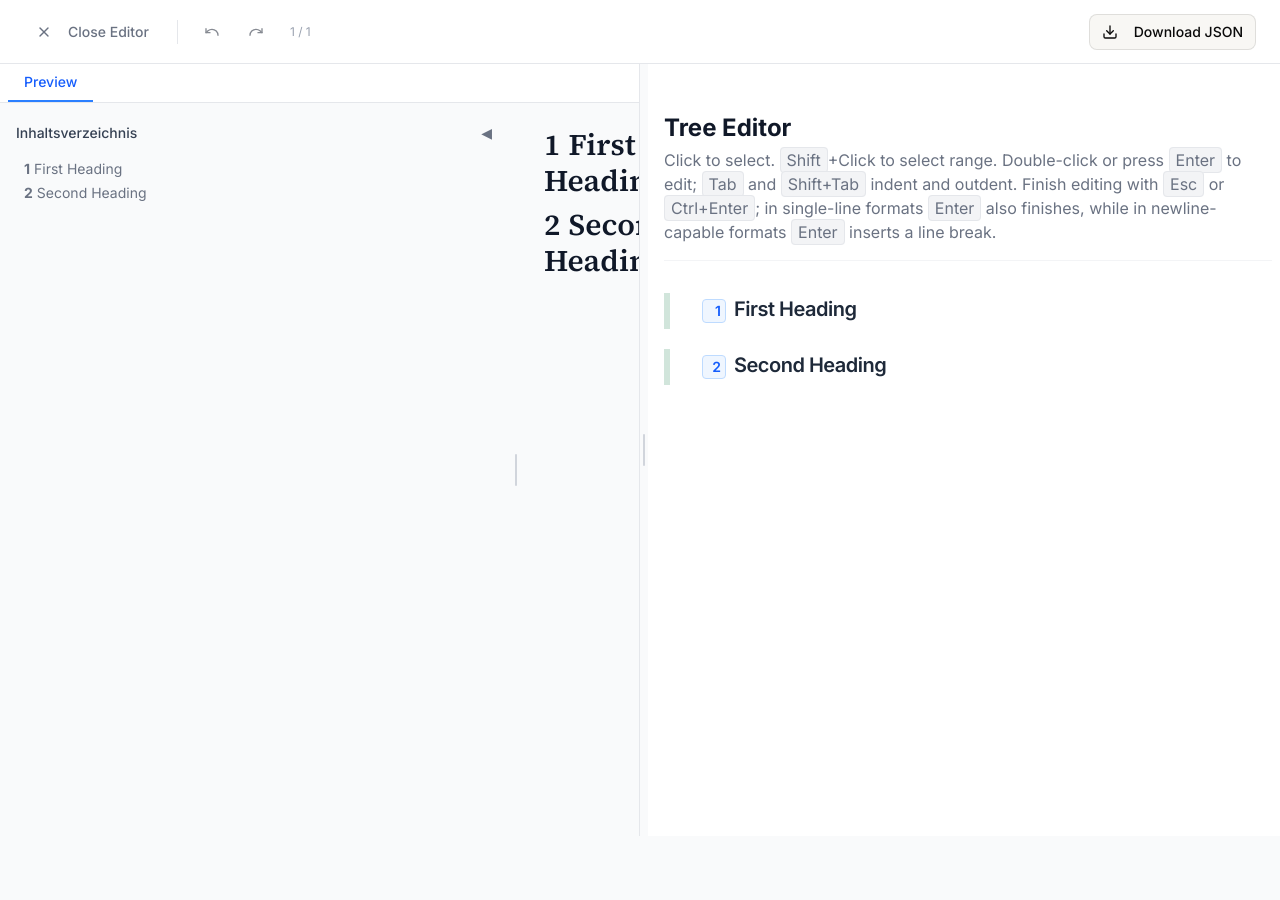
Test case: TreeEditor keyboard shortcuts › type change shortcuts with a node selected › B converts the selected node to a table
Click the heading "First Heading".
click(795, 309)  # box [734, 297, 856, 321]
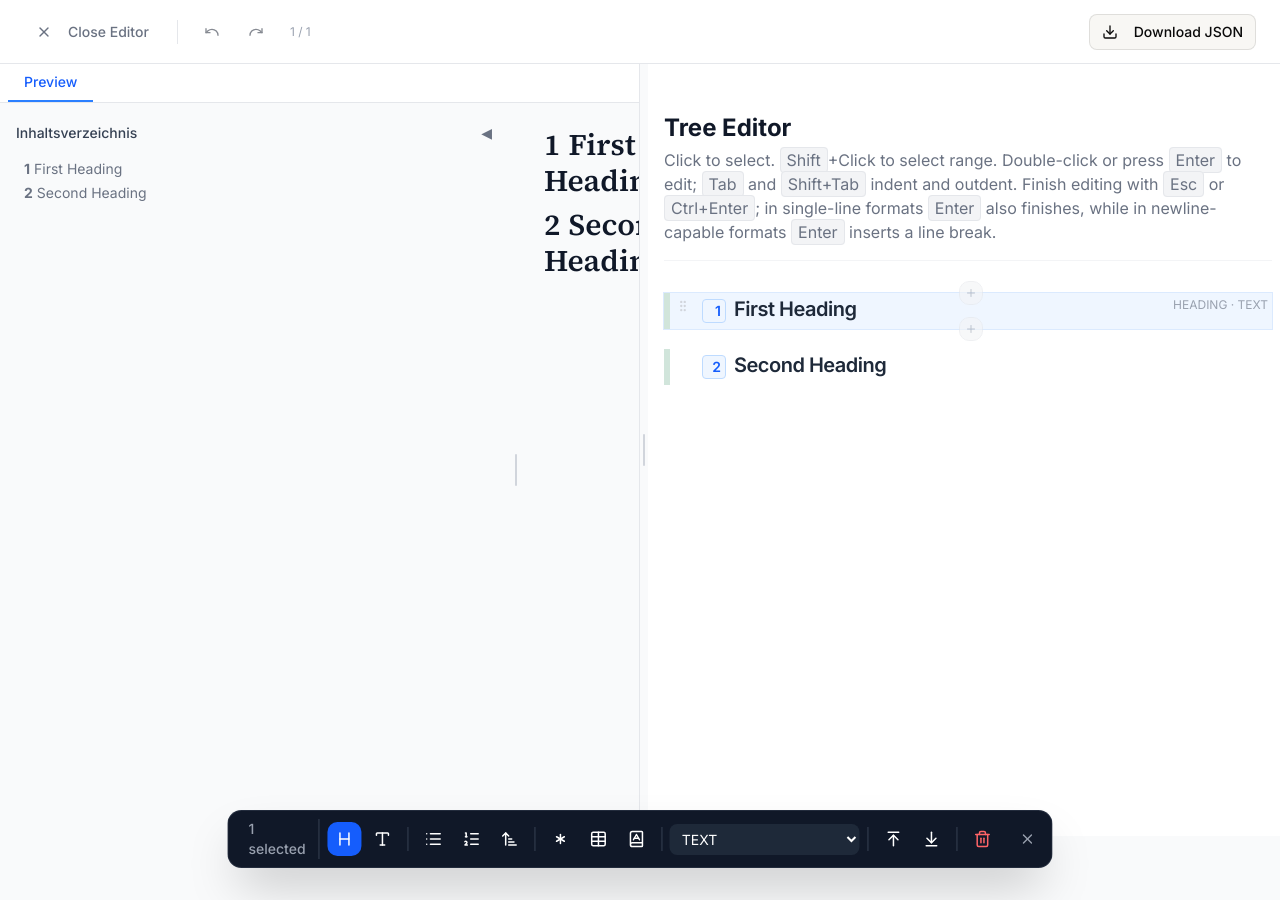
Press b in the element with test id "tree-editor-pane", box [648, 64, 1279, 836]
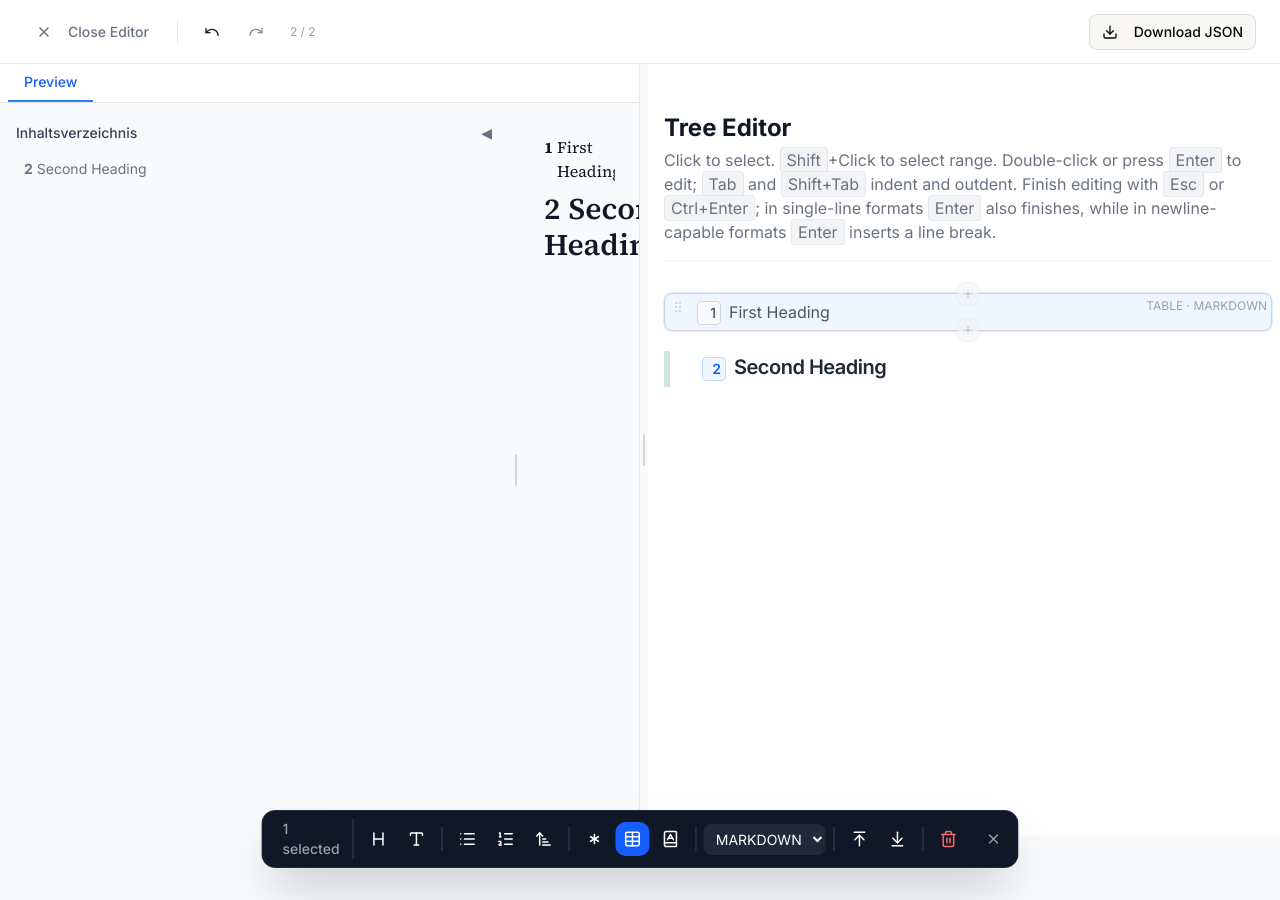
Check: the text with class "tree-node-type-indicator" reads "TABLE · MARKDOWN", box [1146, 298, 1267, 313]
